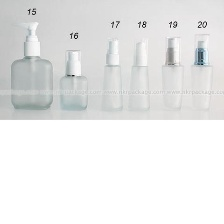bottle: (6, 39, 55, 111), (54, 48, 94, 114), (187, 47, 216, 113), (159, 47, 187, 113), (97, 52, 126, 112), (126, 53, 153, 114)
